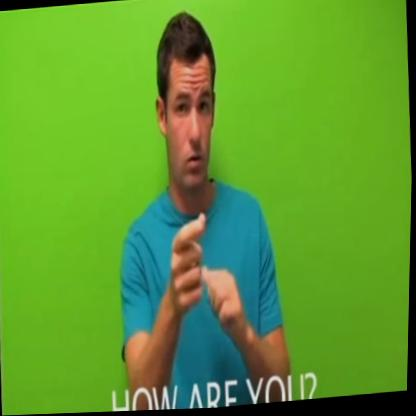HowAreYou: (153, 209, 248, 327)
